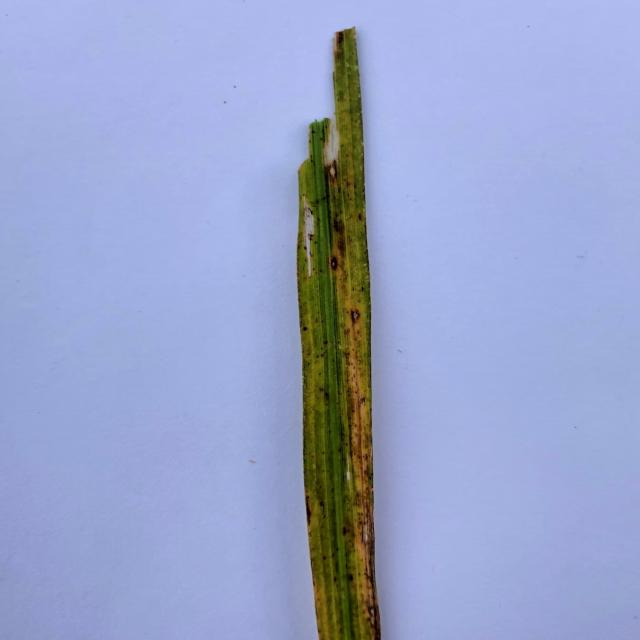tungro: (342, 159, 384, 640)
